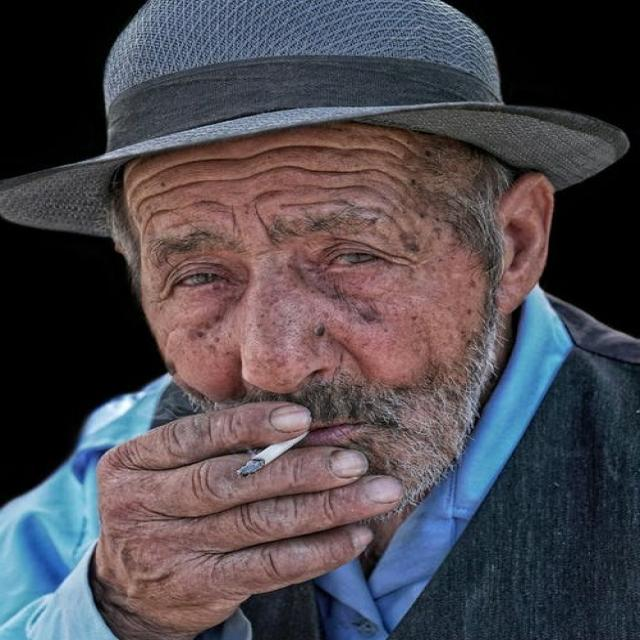Wrinkles: (129, 145, 403, 205), (137, 165, 411, 212), (376, 136, 436, 165), (364, 209, 404, 231), (144, 208, 177, 232), (372, 180, 403, 201), (282, 200, 353, 207), (256, 204, 268, 235), (182, 201, 225, 208), (252, 191, 282, 201), (319, 186, 366, 189), (231, 206, 235, 226)
